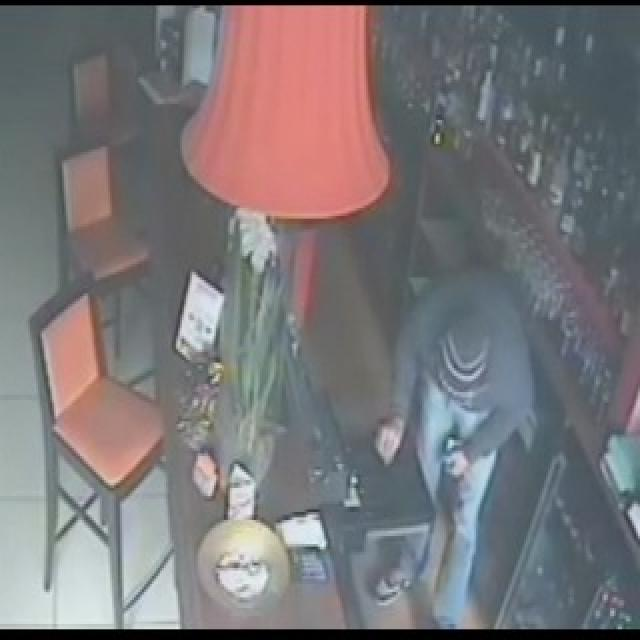thief: (400, 249, 532, 573)
